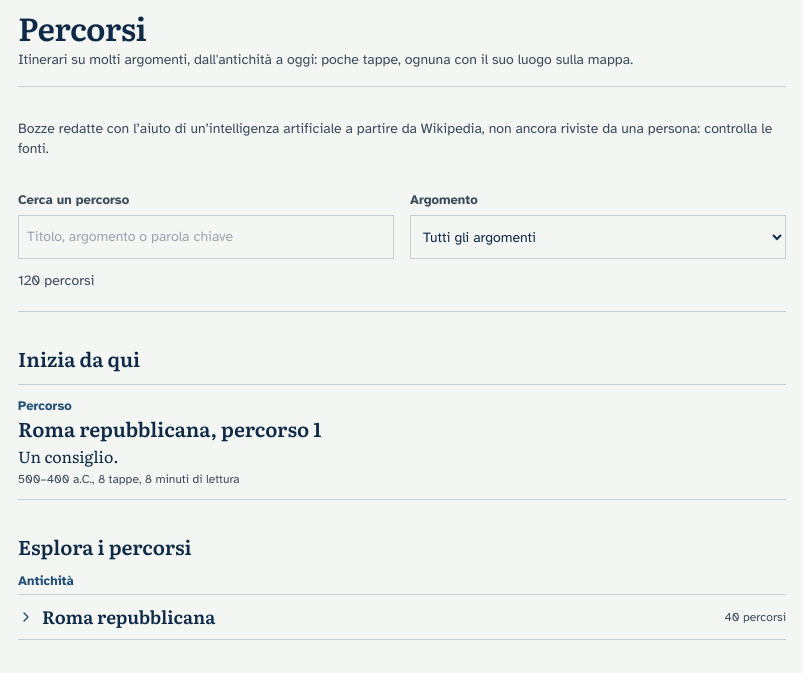
Test case: PathsPage with many paths › puts the search first, above the proposals, which step aside while looking for something
The image size is (803, 673).
Type "medioevo" into the search field labelled "Cerca un percorso" at (206, 237), box [18,215,394,259]
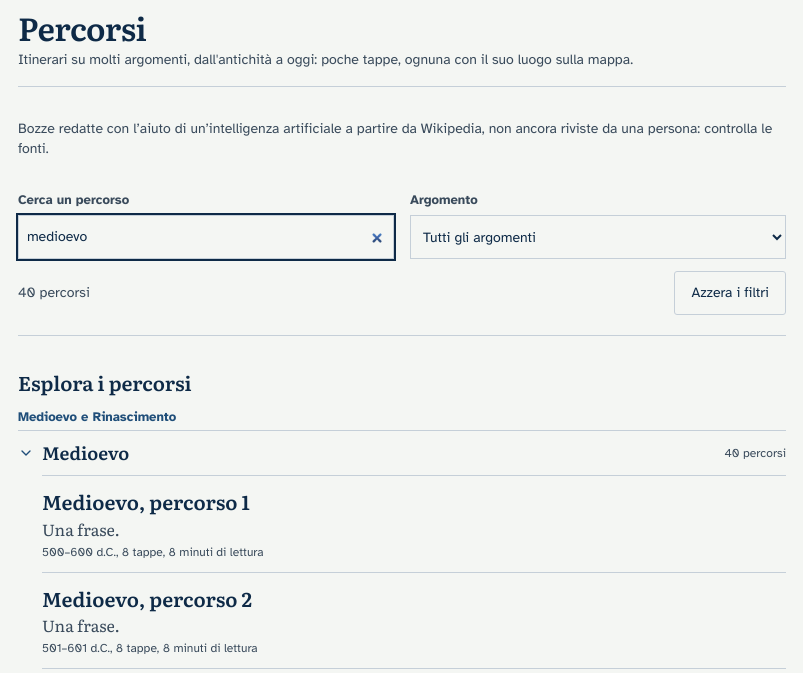
Expected: the heading "Inizia da qui" is gone
